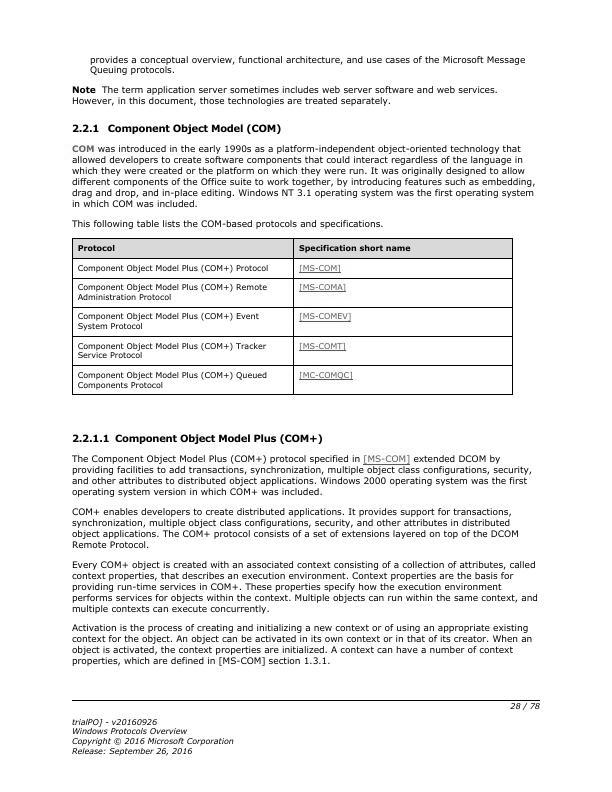table: (71, 238, 517, 399)
text: (68, 142, 540, 212), (70, 559, 539, 616), (70, 452, 534, 500), (68, 620, 537, 666), (68, 505, 520, 551), (87, 52, 529, 77), (70, 84, 502, 108), (68, 714, 235, 757), (70, 429, 324, 446), (70, 217, 386, 230), (68, 121, 289, 137)
